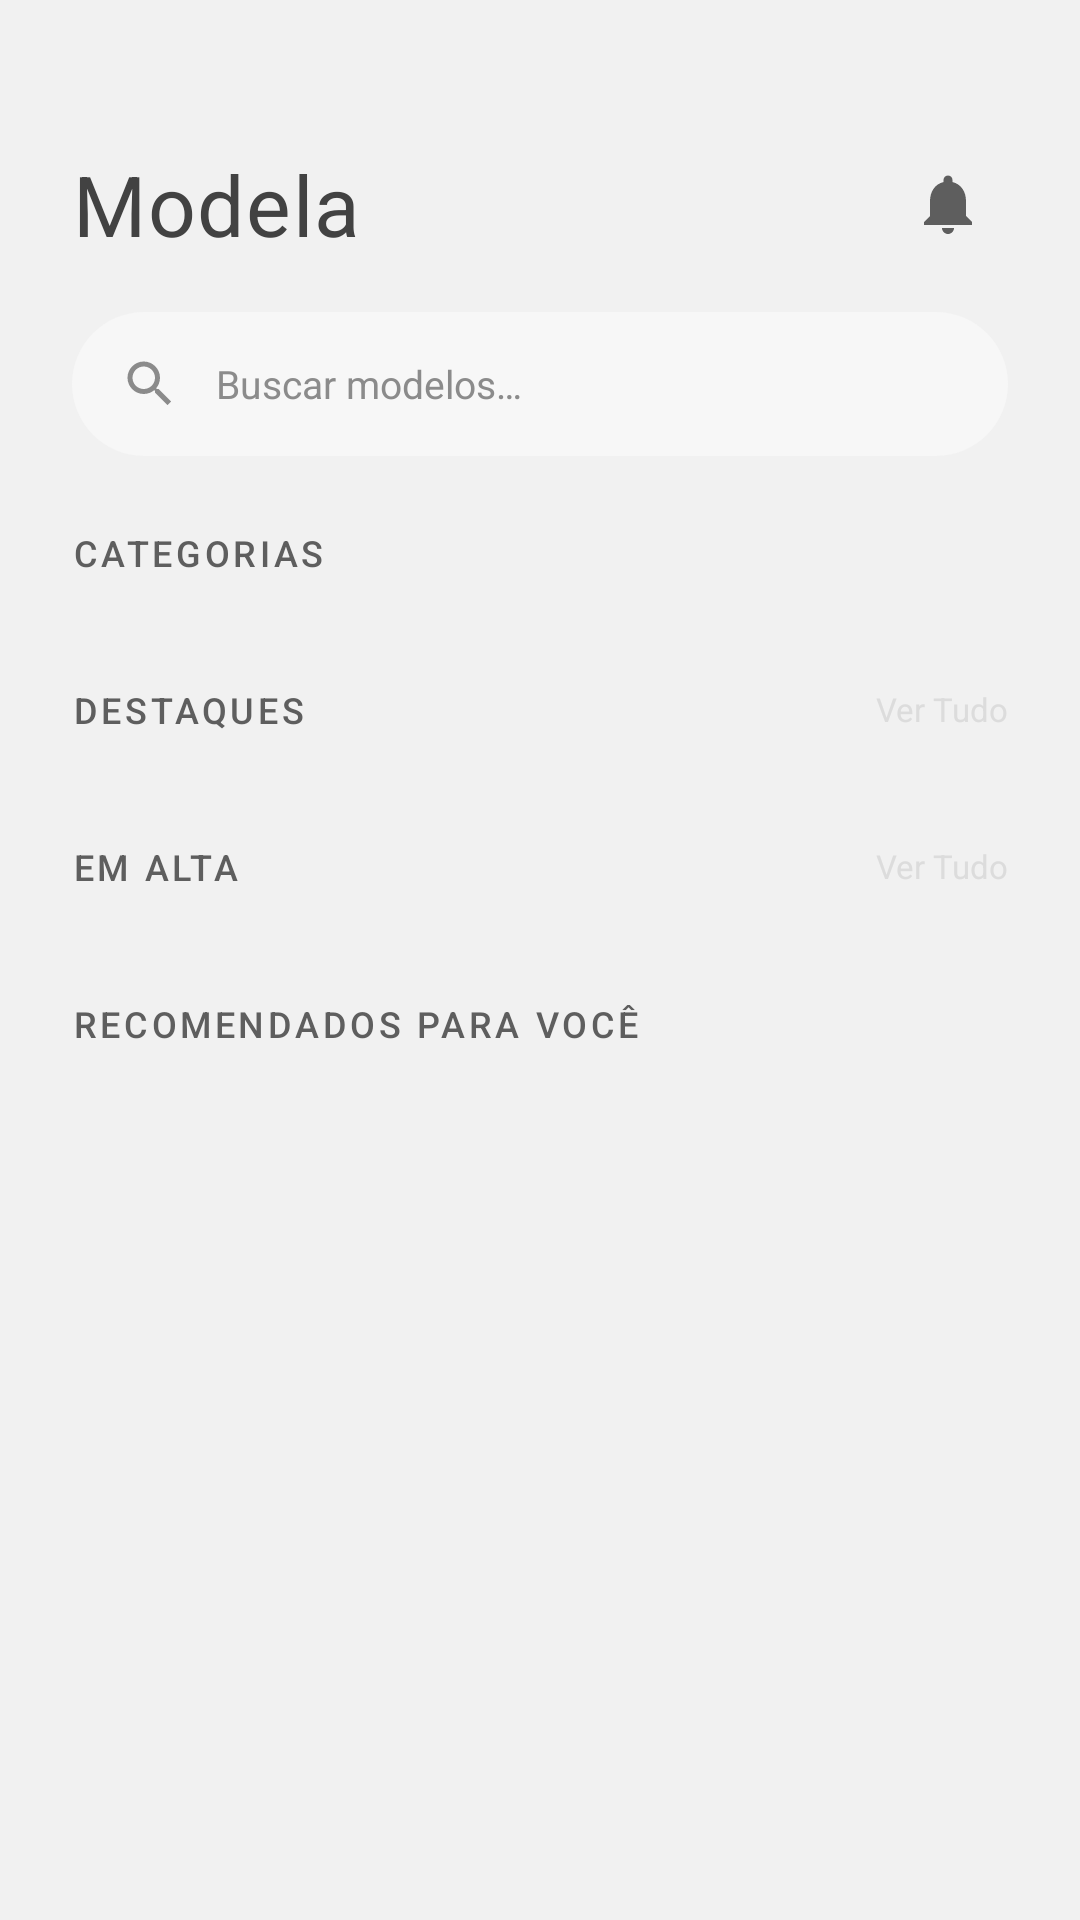

Icons on this 1080px x 1920px Android screen, each with its box as (x1, y1, x2, y2):
Notifications: (924, 175, 972, 234)
Search: (127, 361, 171, 405)
